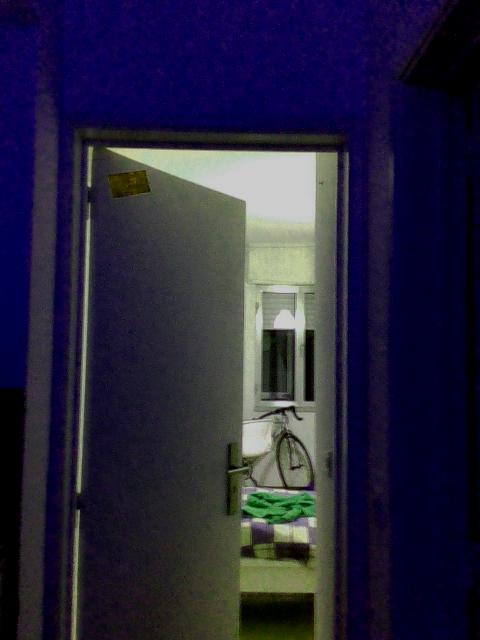semi_door: (48, 106, 365, 639)
